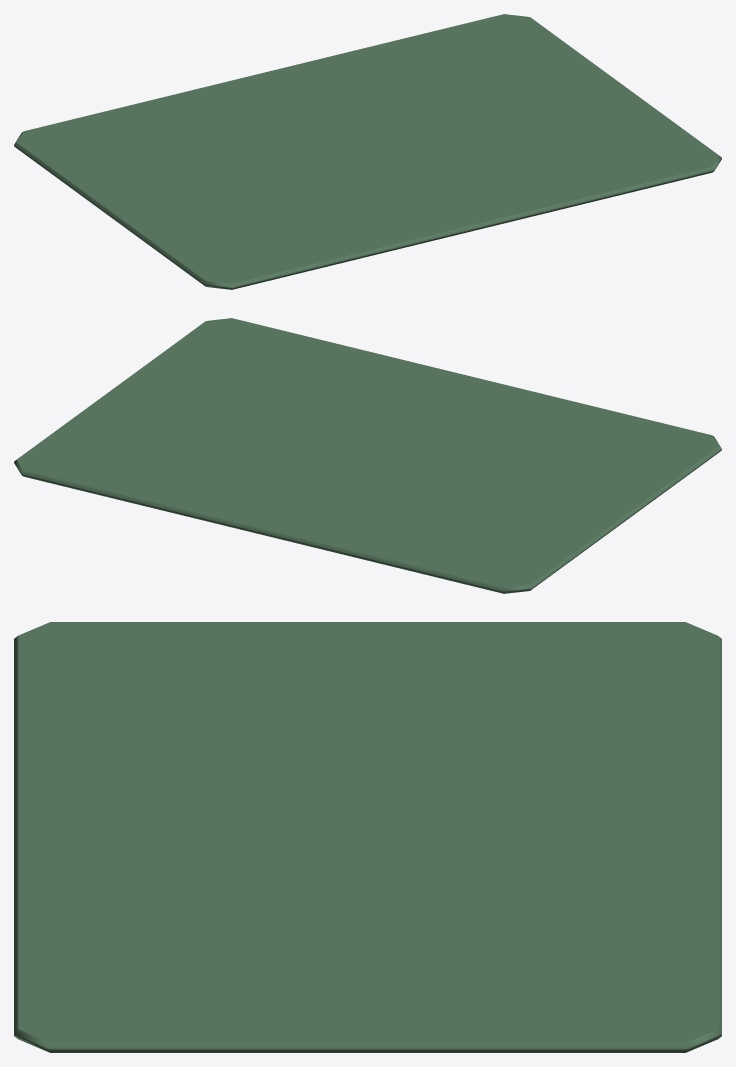
File: t200_mounts.obj
3 renders of one model, top to bottom at view 1: azimuth 30°, elevation 25°; view 2: azimuth 150°, elevation 25°; view 3: azimuth 270°, elevation 25°, orthographic. The views are drawn at different scales.
Parts seen in each view (by area): view 1: t200_mounts; view 2: t200_mounts; view 3: t200_mounts.
Boxes of the visible parts, x1,y1,x2,y2 form: t200_mounts: [14, 14, 721, 289]; t200_mounts: [14, 318, 721, 593]; t200_mounts: [14, 622, 721, 1052].
Bounding box in the file's own units: 7.2 × 0.24 × 5.08.
